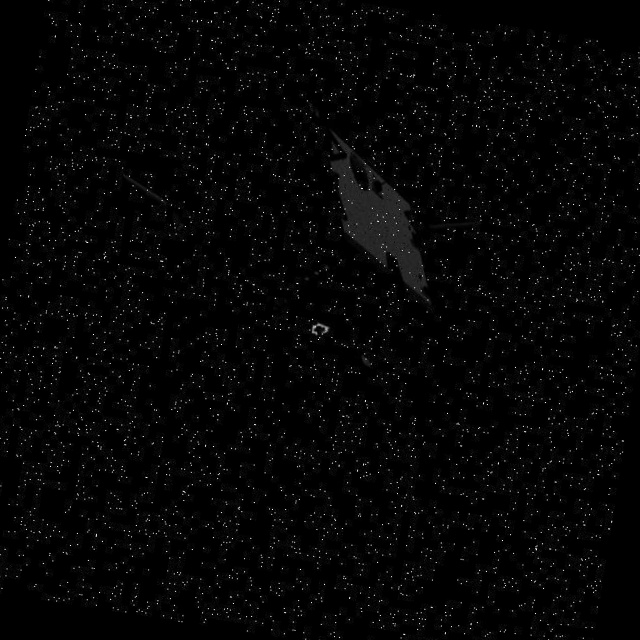satellite: (243, 118, 458, 309)
